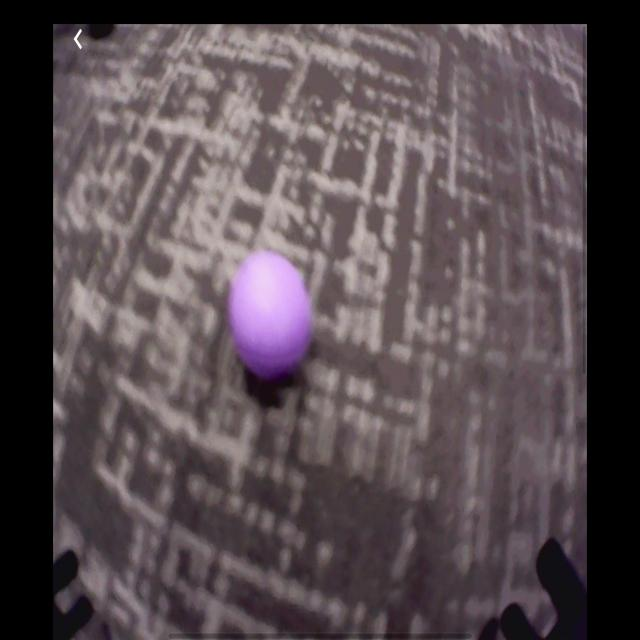ball: (229, 252, 315, 384)
